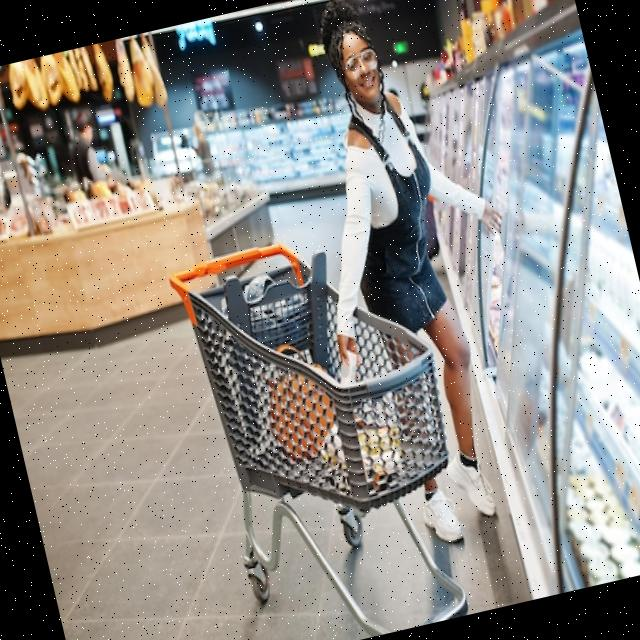Person: (263, 0, 572, 556)
